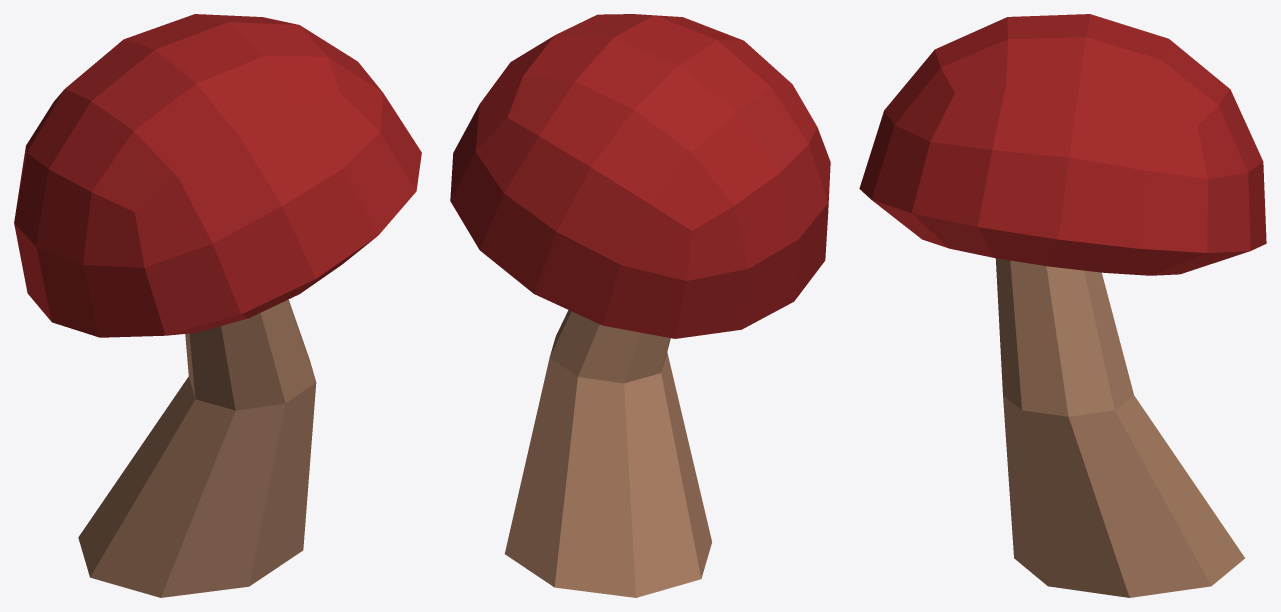
Rendered from mesh_mushroom_02_red.fbx.
3 views of the same model, side by side, from view 1: azimuth 30°, elevation 25°; view 2: azimuth 150°, elevation 25°; view 3: azimuth 270°, elevation 25° (orthographic). The views are drawn at different scales.
Visible parts, largest first — view 1: mesh_mushroom_02_red_LOD0; view 2: mesh_mushroom_02_red_LOD0; view 3: mesh_mushroom_02_red_LOD0.
Part boxes in pixels (box(x1,y1,x2,y2)): mesh_mushroom_02_red_LOD0: box(14, 14, 421, 597); mesh_mushroom_02_red_LOD0: box(450, 14, 830, 597); mesh_mushroom_02_red_LOD0: box(859, 14, 1266, 597).
Size of what is drawn, in the model's own units: 0.2644 by 0.3907 by 0.2681.
